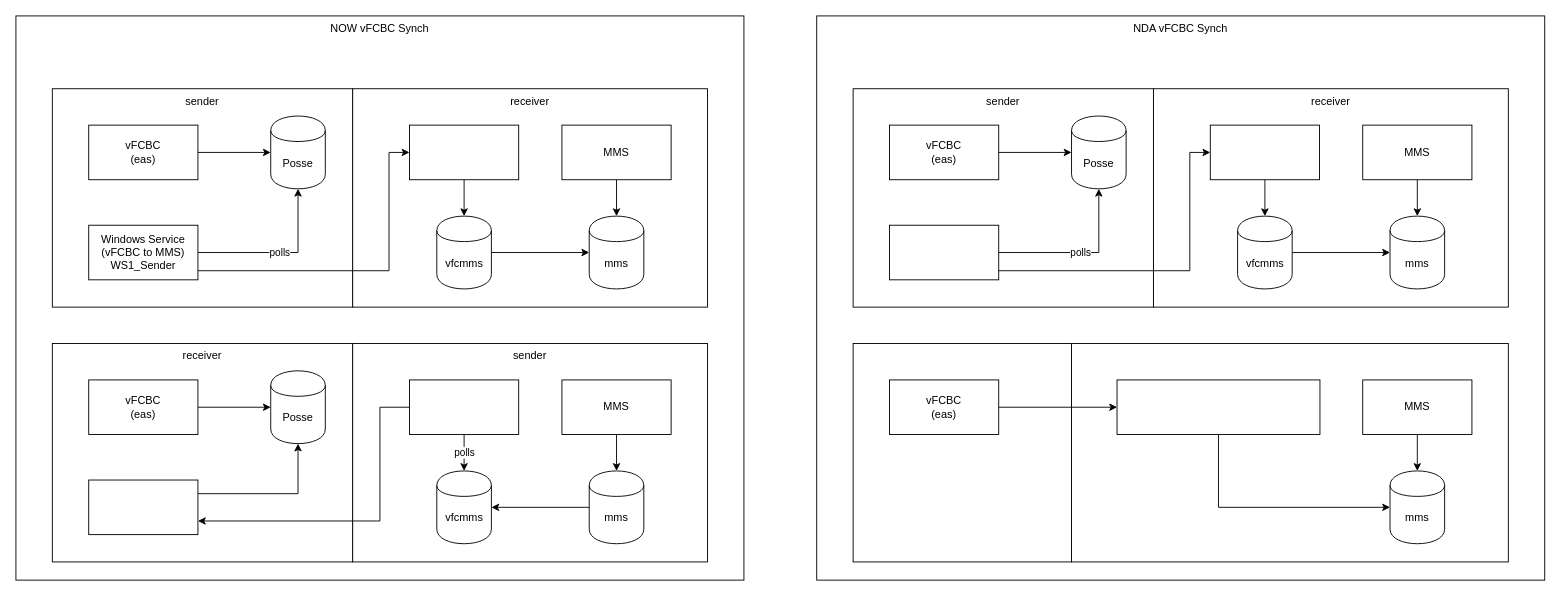
Some shapes in this 1561 by 596 pixel diagram are drawn without their labels. Each missing label, with the centre of its shape:
Web Service: (143,507)
Windows Service: (464,407)
Windows Service (vFCBC to MMS): (944,252)
WS1 ( ReceiveApp): (464,152)
WS1 ( ReceiveNDAApp): (1264,152)
WS1 (MMSReceivePermitNumberRetMine) (MMSReceivePermitNumberRetNoW): (1218,407)
